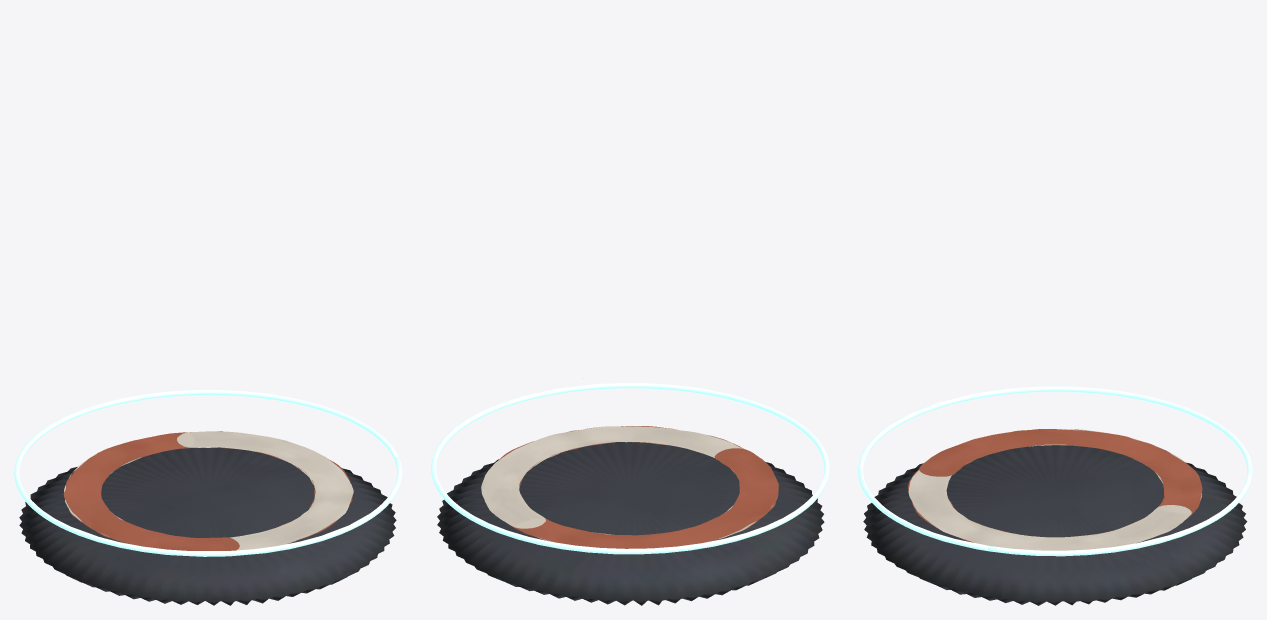
The model's file is adn-del-color.mobile.glb.
3 views of the same model, side by side, from view 1: azimuth 30°, elevation 25°; view 2: azimuth 150°, elevation 25°; view 3: azimuth 270°, elevation 25° (orthographic). The views are drawn at different scales.
Parts seen in each view (by area): view 1: Pedestal, Cadena_B.001, Cadena_A.001, Anillo_escaneo; view 2: Pedestal, Cadena_B.001, Cadena_A.001, Anillo_escaneo; view 3: Pedestal, Cadena_B.001, Cadena_A.001, Anillo_escaneo.
Part boxes in pixels (bbox=[...]): Pedestal: bbox=[19, 447, 396, 605]; Cadena_B.001: bbox=[63, 432, 352, 550]; Cadena_A.001: bbox=[64, 431, 353, 550]; Anillo_escaneo: bbox=[14, 389, 402, 556]; Pedestal: bbox=[437, 442, 824, 605]; Cadena_B.001: bbox=[498, 426, 778, 548]; Cadena_A.001: bbox=[481, 426, 772, 542]; Anillo_escaneo: bbox=[431, 382, 829, 554]; Pedestal: bbox=[863, 445, 1247, 605]; Cadena_B.001: bbox=[908, 429, 1202, 542]; Cadena_A.001: bbox=[908, 429, 1202, 550]; Anillo_escaneo: bbox=[858, 386, 1252, 556].
Bounding box in the file's own units: 3.55 × 5.11 × 3.55.
28 materials, 27 textured.
